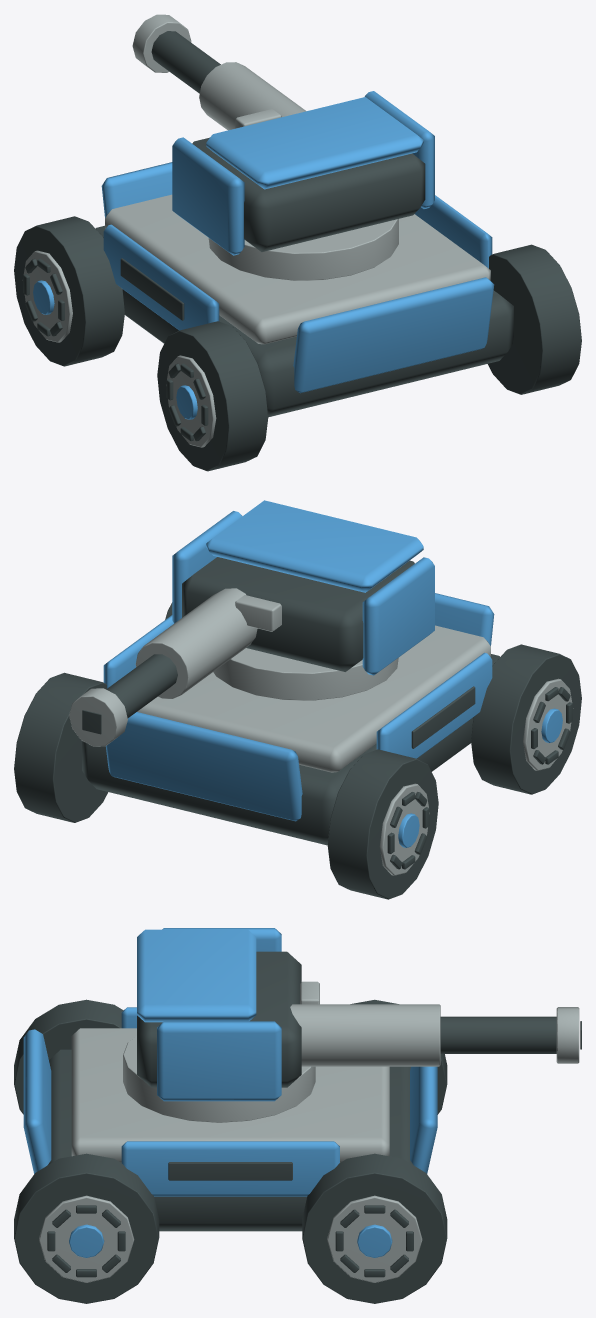
File: hero-blue.glb
3 renders of one model, top to bottom at view 1: azimuth 30°, elevation 25°; view 2: azimuth 150°, elevation 25°; view 3: azimuth 270°, elevation 25°, orthographic.
Visible parts, largest first — view 1: hero-chassis, hero-armor, hero-mechanics; view 2: hero-chassis, hero-armor, hero-mechanics; view 3: hero-chassis, hero-mechanics, hero-armor.
Boxes of the visible parts, x1,y1,x2,y2 form: hero-chassis: [14, 31, 581, 471]; hero-armor: [33, 91, 494, 419]; hero-mechanics: [22, 14, 490, 447]; hero-chassis: [14, 557, 581, 899]; hero-armor: [103, 500, 562, 847]; hero-mechanics: [69, 588, 573, 875]; hero-chassis: [14, 951, 581, 1303]; hero-mechanics: [39, 981, 579, 1282]; hero-armor: [23, 928, 437, 1257].
Bounding box in the file's own units: 0.7584 × 0.4875 × 1.
